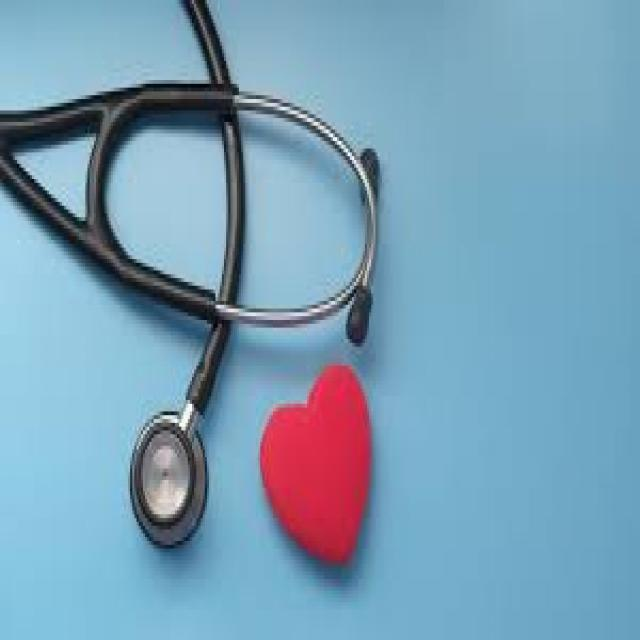stethoscope: (27, 40, 262, 579)
